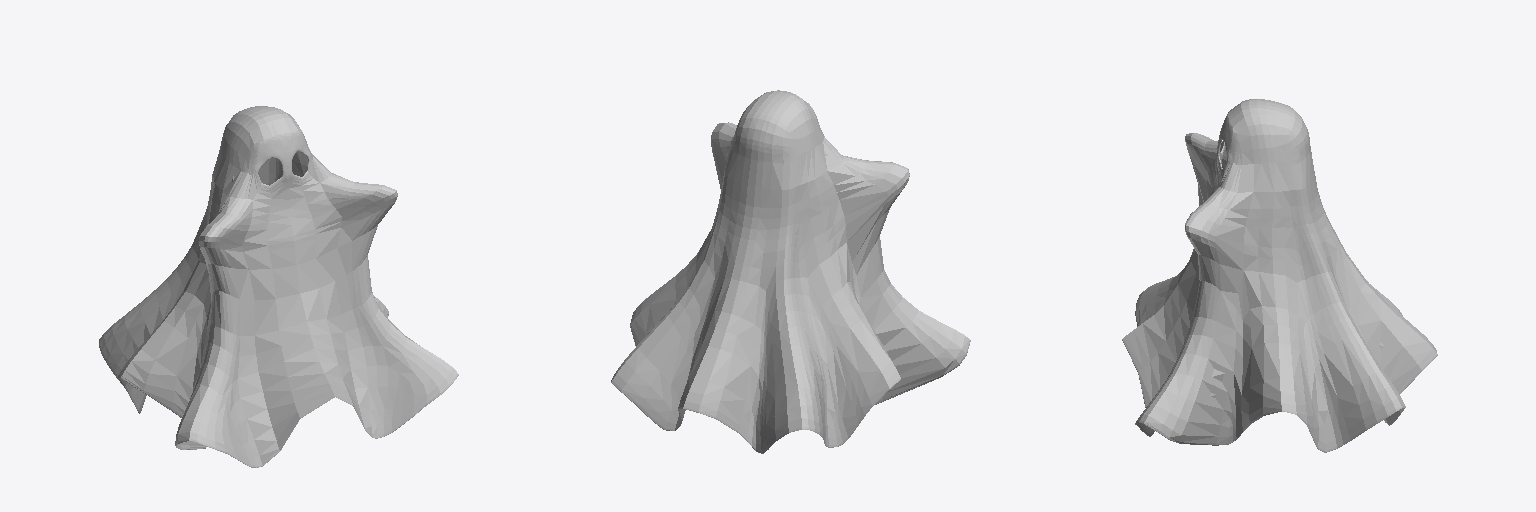
3 renders of one model, left to right at view 1: azimuth 30°, elevation 25°; view 2: azimuth 150°, elevation 25°; view 3: azimuth 270°, elevation 25°, orthographic.
Visible parts, largest first — view 1: youlinguu2:Group3 walk1; view 2: youlinguu2:Group3 walk1; view 3: youlinguu2:Group3 walk1.
Boxes of the visible parts, box(x1,y1,x2,y2) form: youlinguu2:Group3 walk1: box(99, 106, 458, 467); youlinguu2:Group3 walk1: box(611, 90, 970, 453); youlinguu2:Group3 walk1: box(1122, 99, 1437, 452).
Bounding box in the file's own units: 37.27 × 39.19 × 36.85.